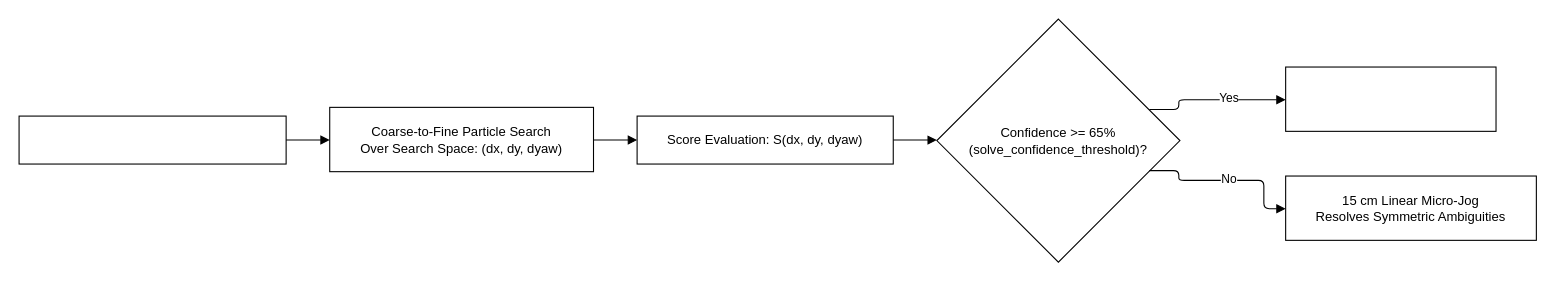
Some shapes in this 1555 by 281 pixel diagram are drawn without their labels. Here are the shapes that lost their labels. From the top down, the centre of each, then its label:
point (1390, 98): Publish /initialpose (< 50 ms Execution Time)
point (152, 139): Stationary 360-Degree LiDAR Scan
